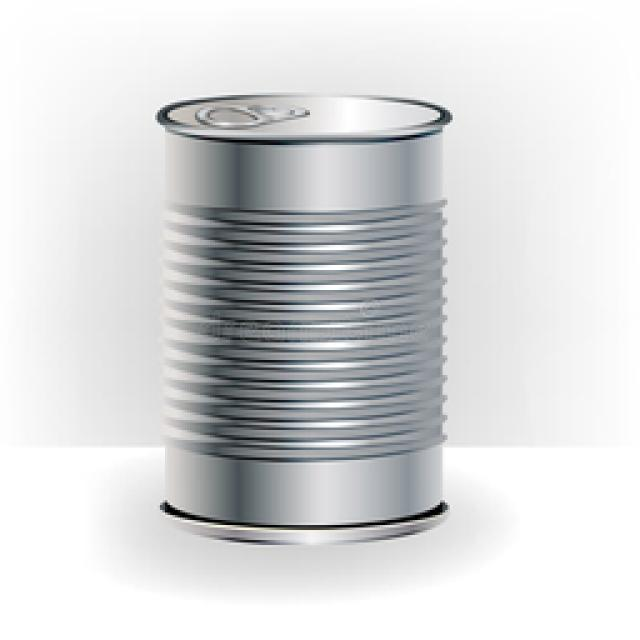alumunium: (155, 92, 450, 542)
